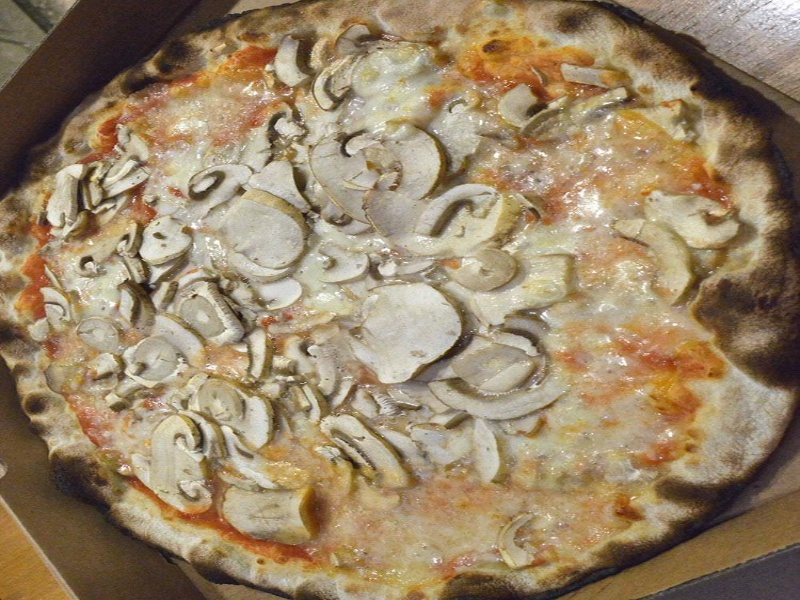champignon: (315, 407, 425, 498), (135, 410, 219, 520), (63, 220, 156, 276), (178, 163, 259, 213)
